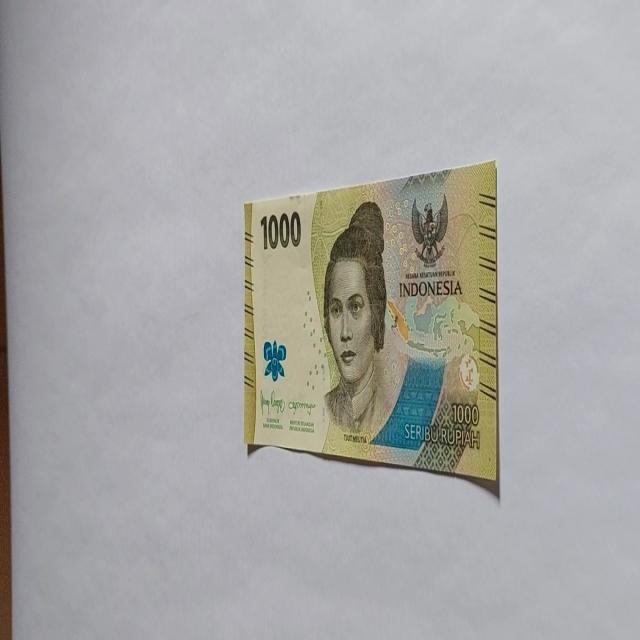seribu rupiah kertas: (242, 158, 500, 496)
